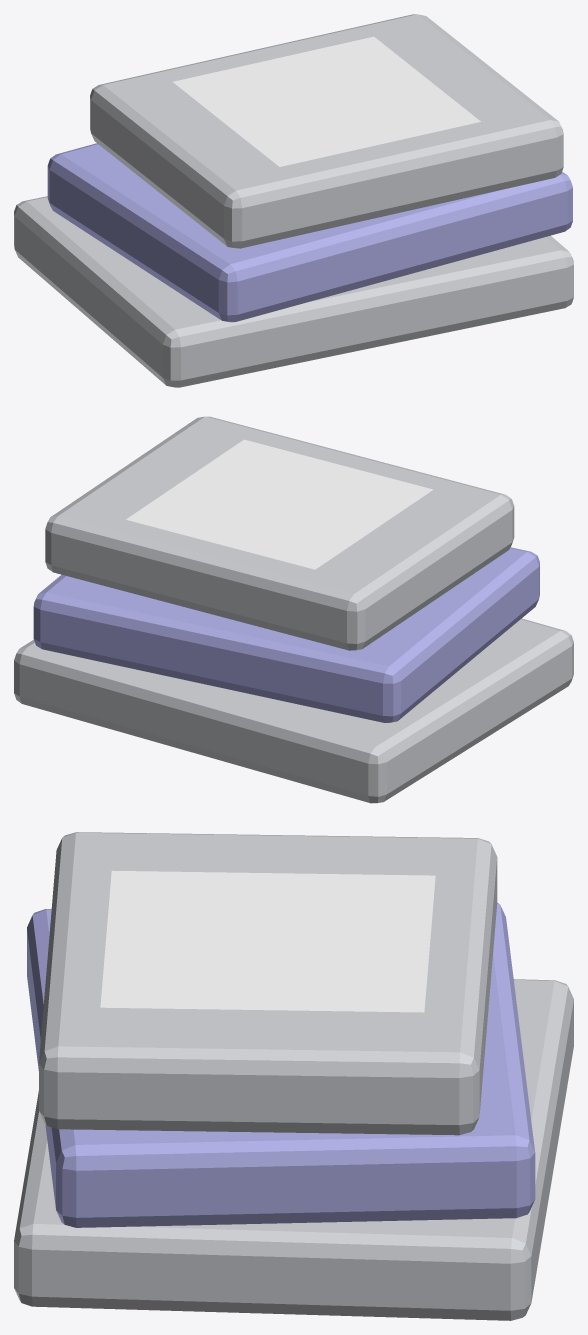
The model's file is library.glb.
3 renders of one model, top to bottom at view 1: azimuth 30°, elevation 25°; view 2: azimuth 150°, elevation 25°; view 3: azimuth 270°, elevation 25°, orthographic. The views are drawn at different scales.
Parts seen in each view (by area): view 1: lib_l2, lib_l0, lib_l1, lib_logo; view 2: lib_l2, lib_l0, lib_l1, lib_logo; view 3: lib_l2, lib_l0, lib_l1, lib_logo.
Part boxes in pixels (x1=…): lib_l2: x1=90, y1=14, x2=563, y2=248; lib_l0: x1=14, y1=196, x2=573, y2=387; lib_l1: x1=47, y1=143, x2=572, y2=322; lib_logo: x1=173, y1=36, x2=480, y2=166; lib_l2: x1=45, y1=416, x2=514, y2=650; lib_l0: x1=14, y1=618, x2=573, y2=803; lib_l1: x1=33, y1=547, x2=539, y2=722; lib_logo: x1=126, y1=439, x2=433, y2=569; lib_l2: x1=39, y1=832, x2=497, y2=1135; lib_l0: x1=14, y1=979, x2=573, y2=1320; lib_l1: x1=27, y1=903, x2=535, y2=1227; lib_logo: x1=100, y1=870, x2=435, y2=1012.
Size of the model in its own units: 1.05 by 0.4415 by 0.8636.
